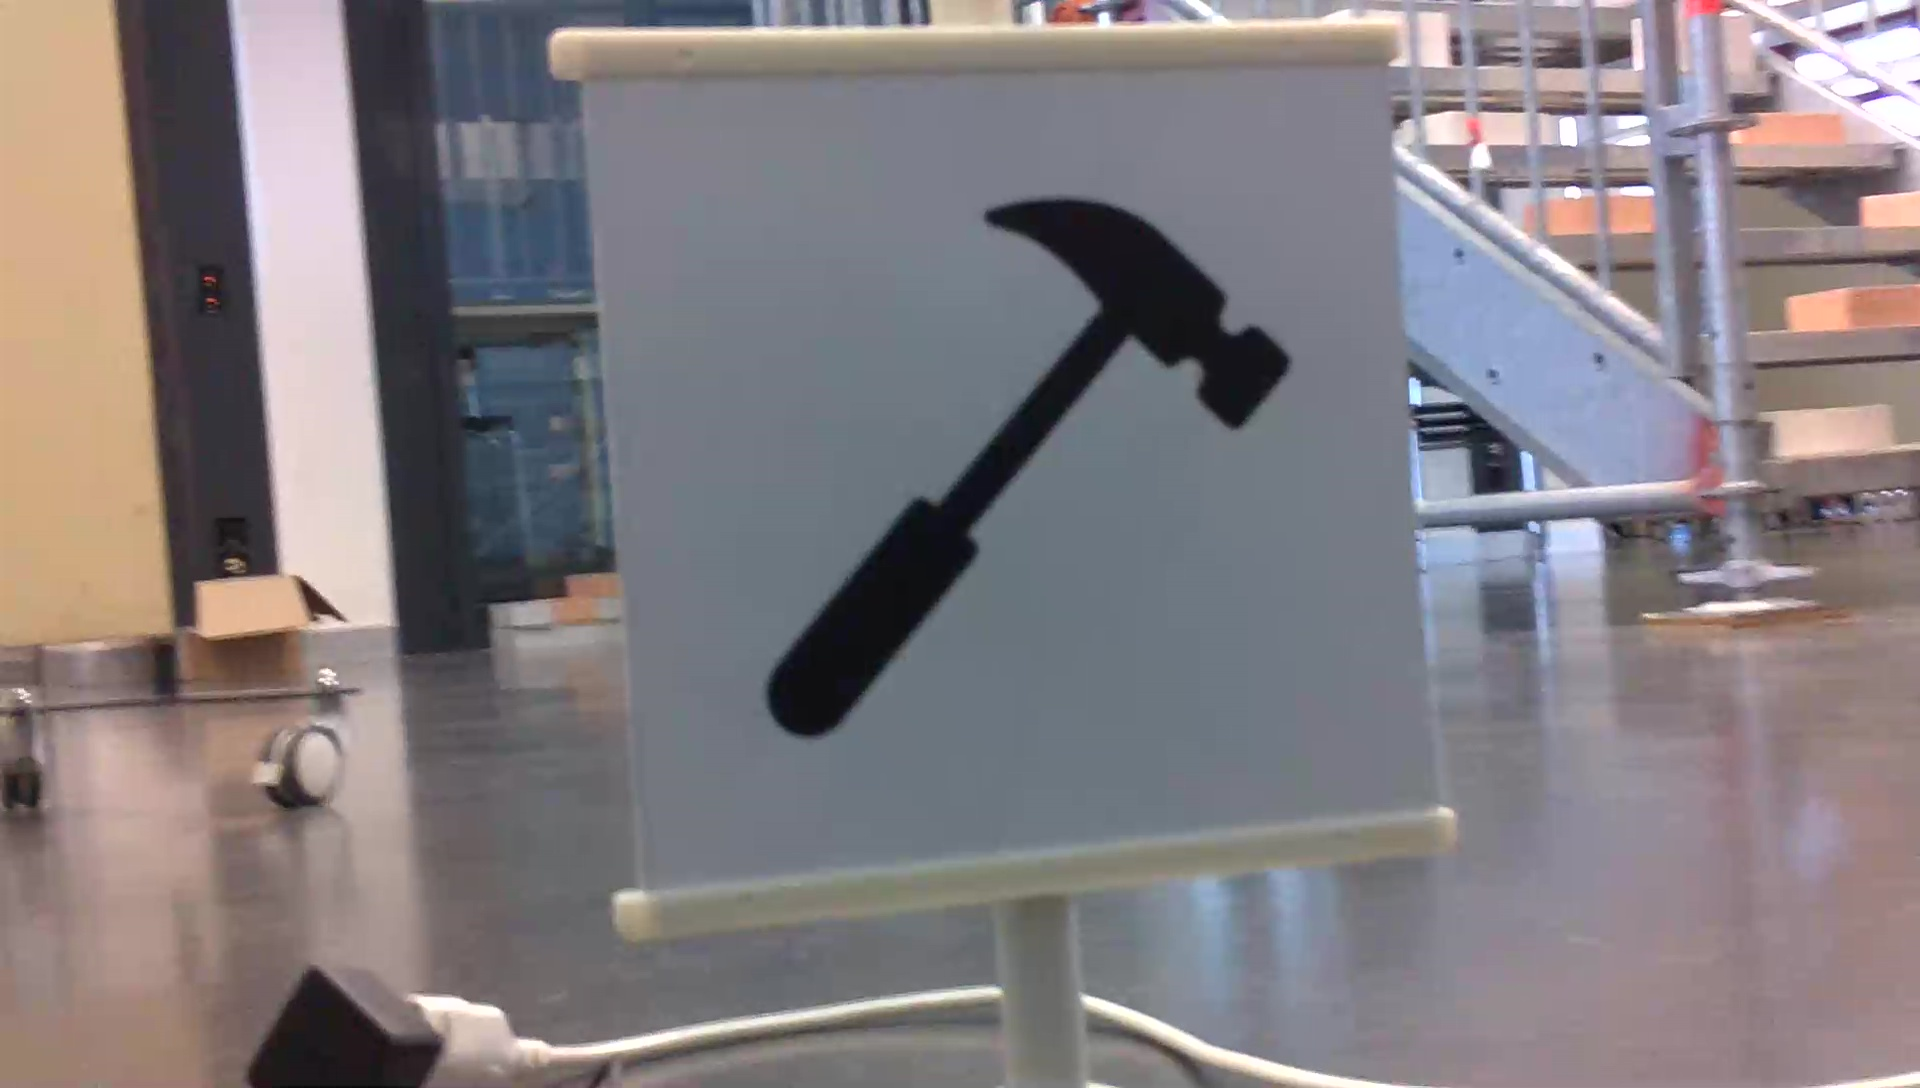brick: (1766, 402, 1892, 454), (1783, 284, 1920, 327), (1745, 112, 1844, 148), (1720, 16, 1756, 70), (1859, 193, 1920, 223)
hammer: (754, 189, 1298, 750)
